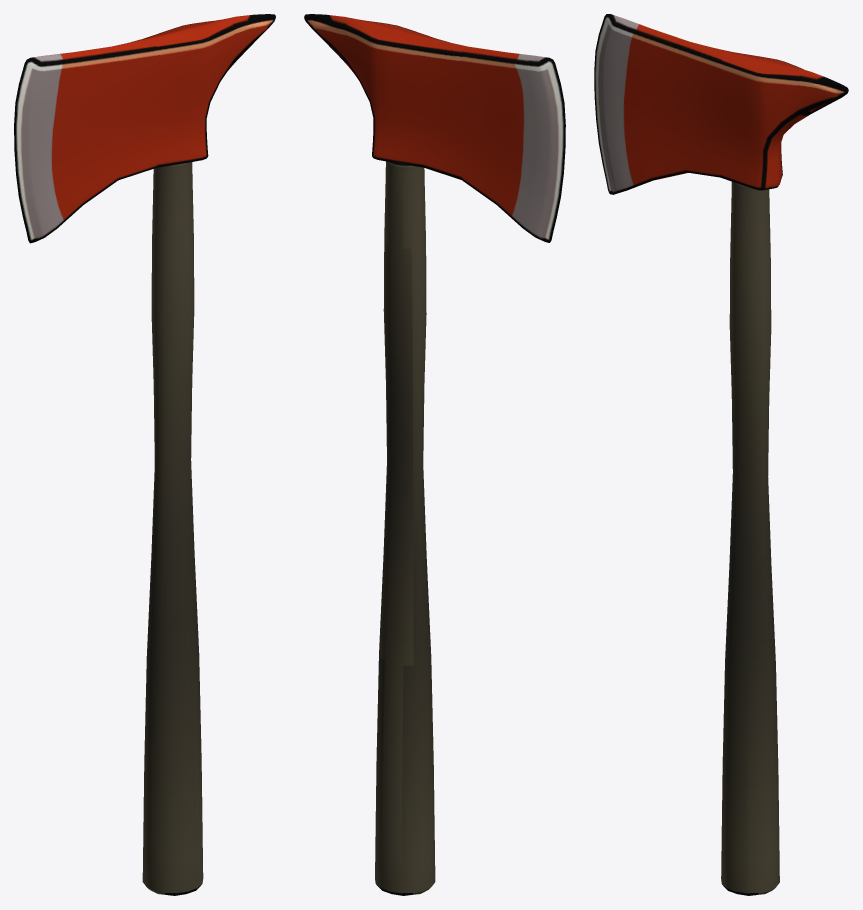
The picture shows the model from 3 angles, left to right: view 1: azimuth 30°, elevation 25°; view 2: azimuth 150°, elevation 25°; view 3: azimuth 330°, elevation 25°; orthographic projection. The views are drawn at different scales.
Visible parts, largest first — view 1: ax; view 2: ax; view 3: ax.
Part boxes in pixels (x1=…): ax: x1=14, y1=14, x2=275, y2=895; ax: x1=304, y1=14, x2=565, y2=895; ax: x1=594, y1=14, x2=848, y2=895.
Size of the model in its own units: 0.7708 by 2.43 by 0.1557.
Materials: 1 (1 with a texture image).
